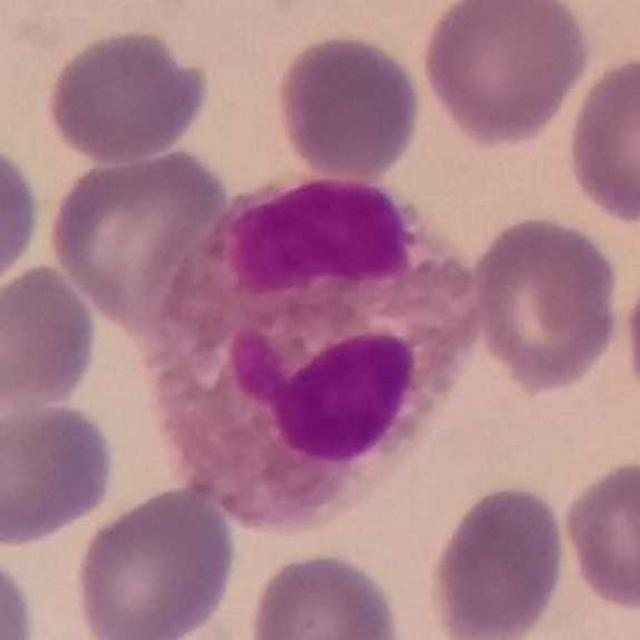Eosinophil: (134, 171, 490, 534)
RBC: (43, 142, 235, 330), (468, 210, 624, 395), (70, 483, 241, 640), (419, 0, 593, 149), (41, 24, 212, 166), (270, 29, 426, 182), (424, 479, 571, 640), (0, 397, 120, 551), (0, 259, 102, 419), (243, 547, 406, 640), (563, 50, 640, 227), (557, 455, 640, 615), (0, 134, 45, 300), (0, 540, 40, 640), (619, 252, 640, 423)
